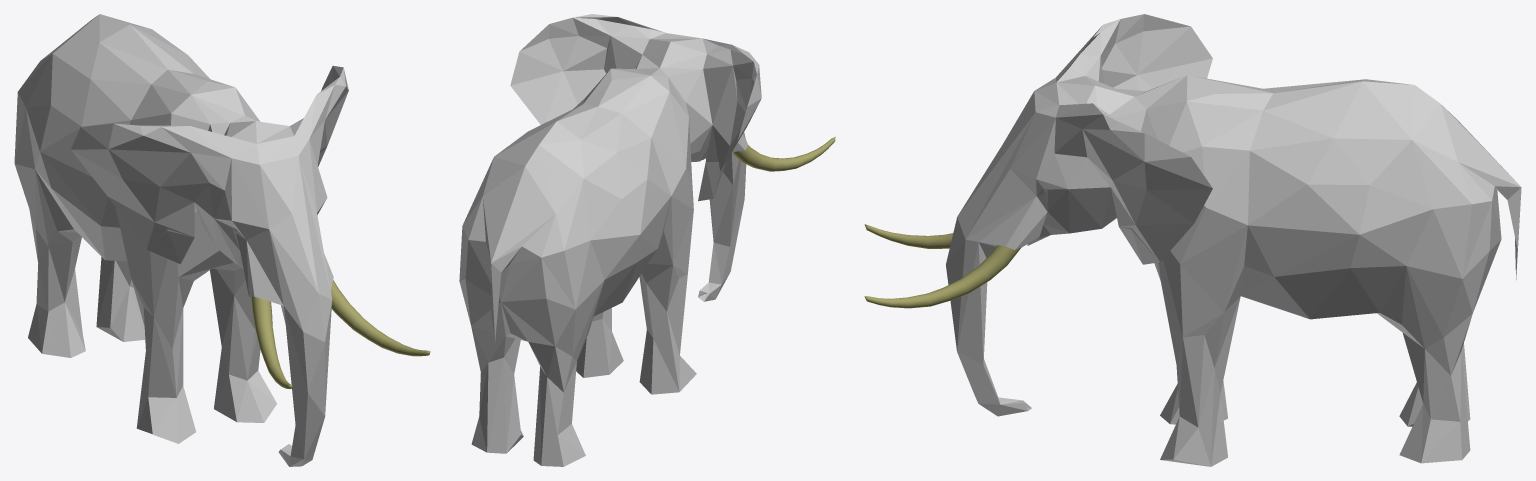
Rendered from elephant.obj.
3 renders of one model, left to right at view 1: azimuth 30°, elevation 25°; view 2: azimuth 150°, elevation 25°; view 3: azimuth 270°, elevation 25°, orthographic. The views are drawn at different scales.
Parts seen in each view (by area): view 1: elephant_Plane.001; view 2: elephant_Plane.001; view 3: elephant_Plane.001.
Boxes of the visible parts, x1,y1,x2,y2 form: elephant_Plane.001: (14, 14, 430, 466); elephant_Plane.001: (459, 14, 835, 466); elephant_Plane.001: (864, 14, 1521, 466).
Size of the model in its own units: 5.33 by 7.02 by 11.35.
